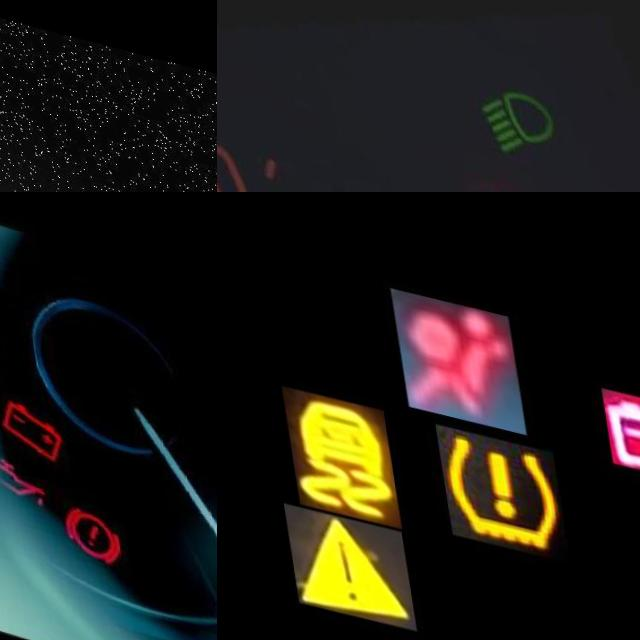Central Warning lamp: (274, 492, 406, 618)
